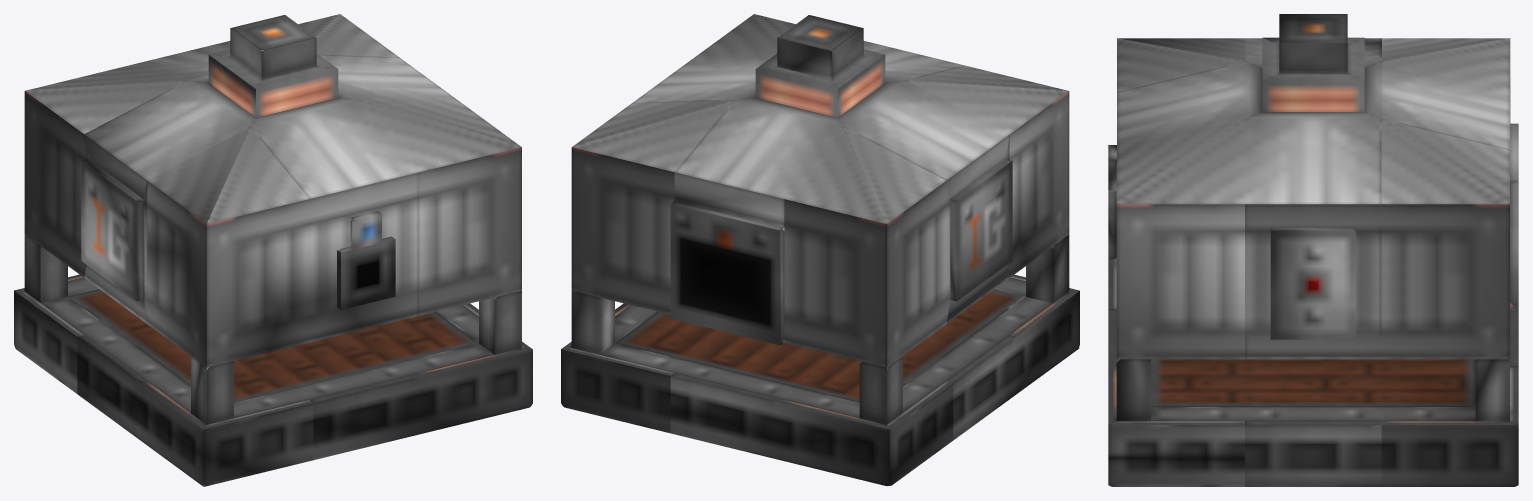
File: crystallizer.obj
3 renders of one model, left to right at view 1: azimuth 30°, elevation 25°; view 2: azimuth 150°, elevation 25°; view 3: azimuth 270°, elevation 25°, orthographic. The views are drawn at different scales.
Visible parts, largest first — view 1: crystallizer; view 2: crystallizer; view 3: crystallizer.
Part boxes in pixels (bbox=[...]): crystallizer: bbox=[14, 14, 532, 486]; crystallizer: bbox=[561, 14, 1079, 485]; crystallizer: bbox=[1108, 14, 1518, 486].
Bounding box in the file's own units: 3 × 3 × 3.
